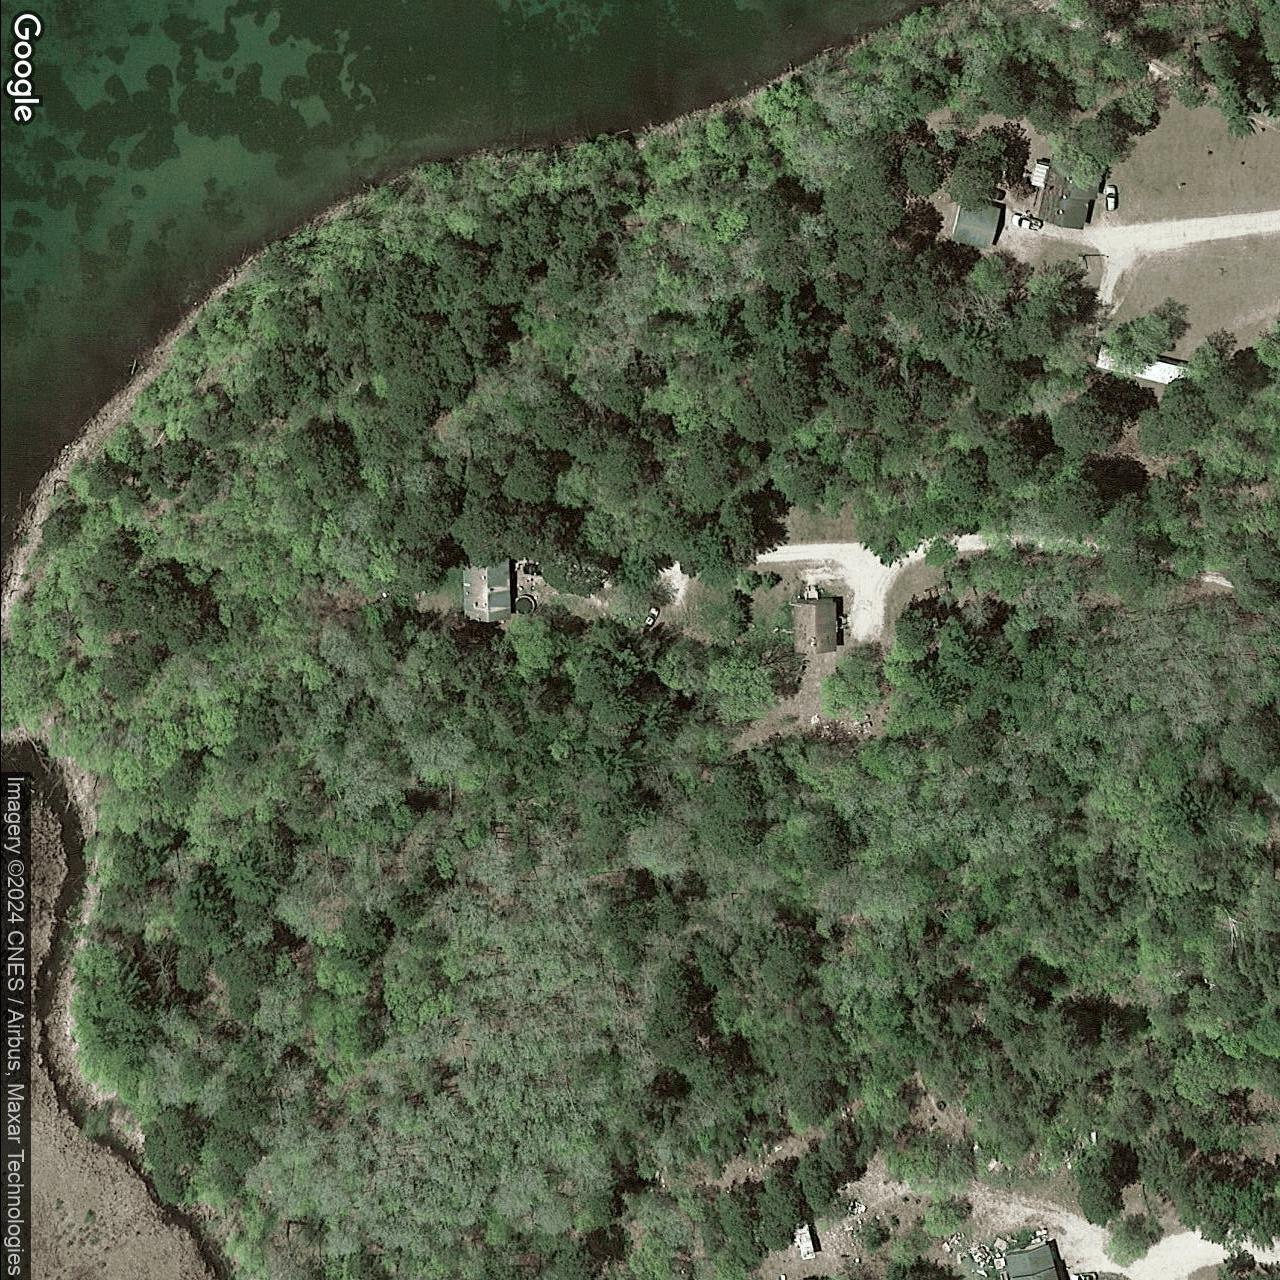Garage: (949, 193, 1002, 251)
House: (1035, 150, 1102, 232), (459, 554, 512, 625), (790, 598, 838, 655), (1002, 1241, 1060, 1280)
Trailer: (1094, 341, 1191, 390)
